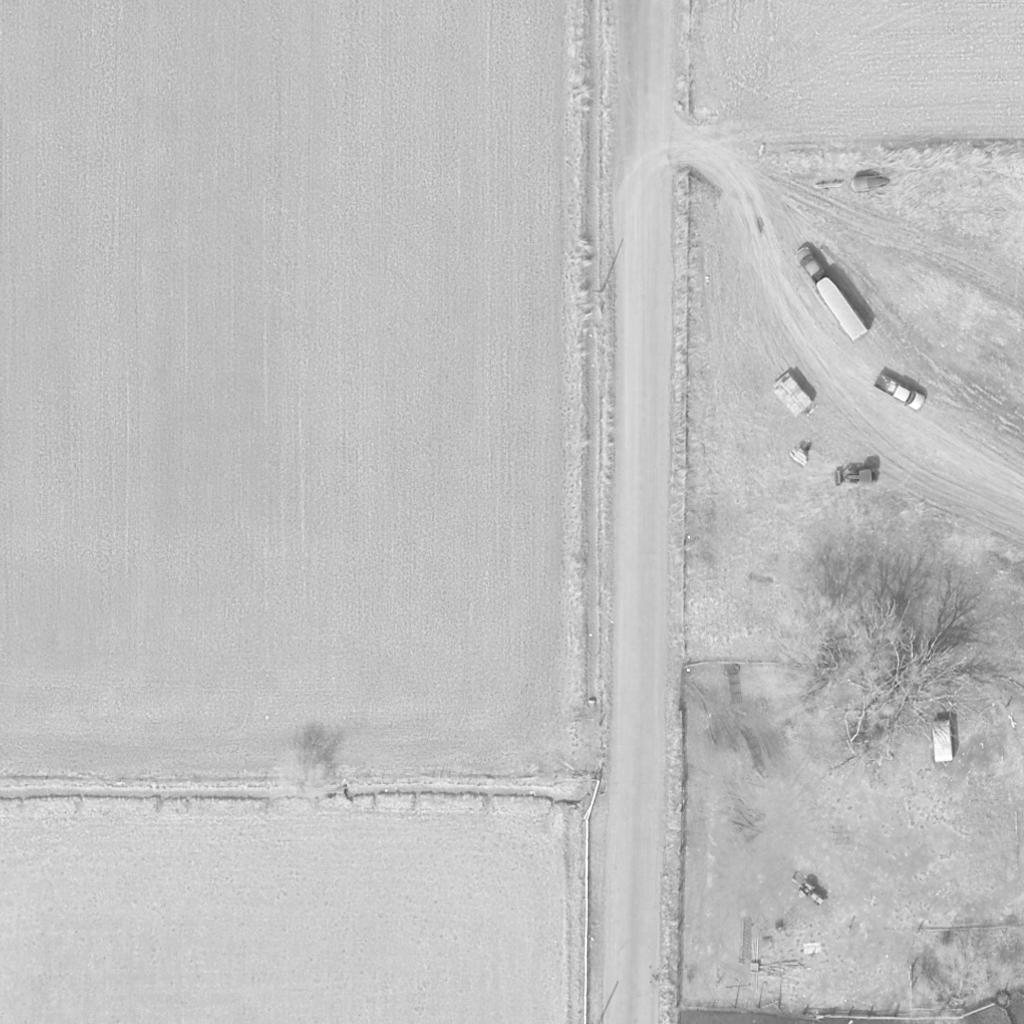vehicle: (812, 273, 870, 345), (871, 372, 929, 412), (794, 245, 834, 291), (832, 466, 880, 490), (931, 720, 953, 766)
